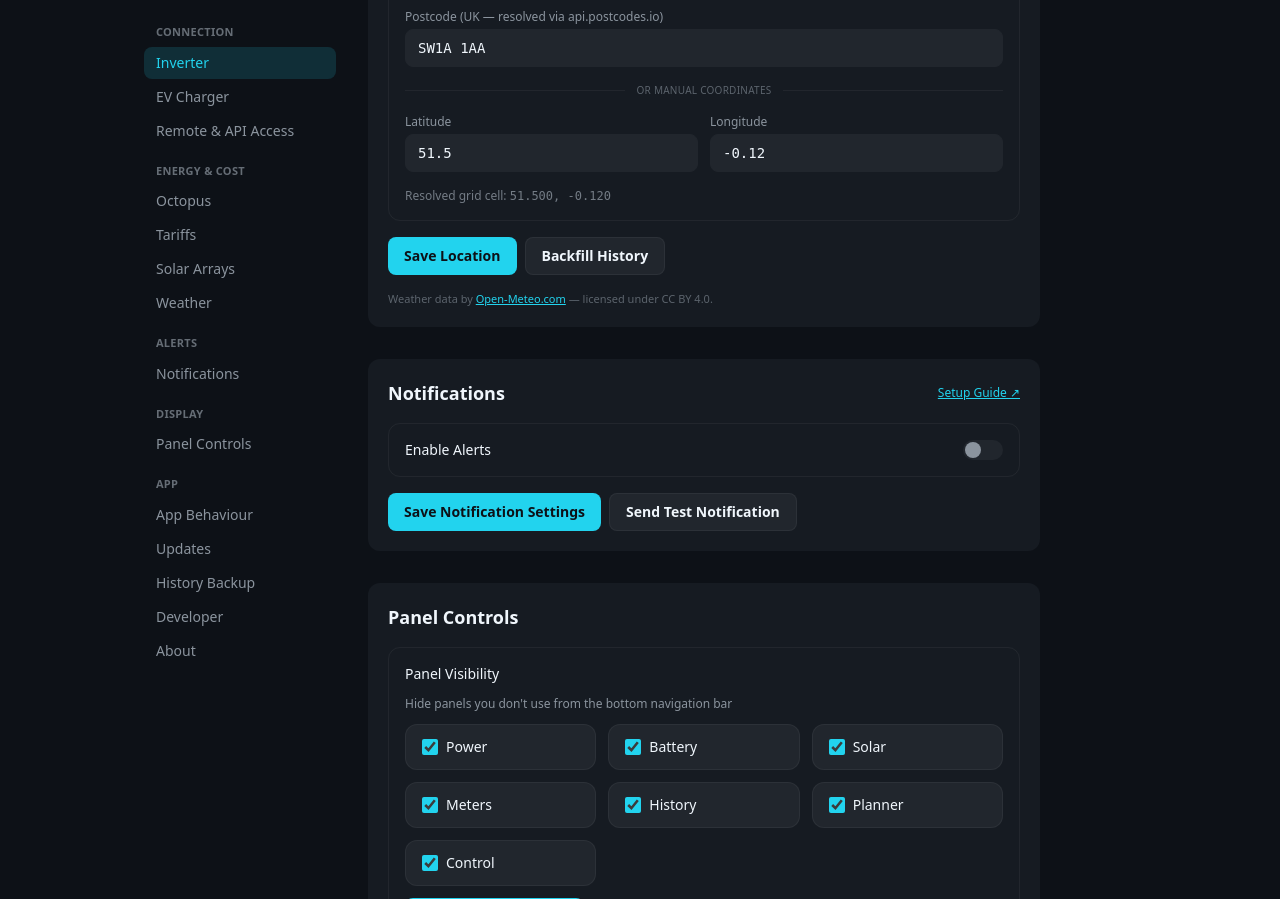
Test: <SettingsPage/> — notification form reaches the right keys › confirms switching alerts on and off
This screenshot has width=1280, height=899.
(page scrolled)
Expected: the button "Save Notification Settings" is enabled, [388, 493, 601, 531]
Click the switch named "Enable Alerts" at (983, 450), box [963, 440, 1003, 460]
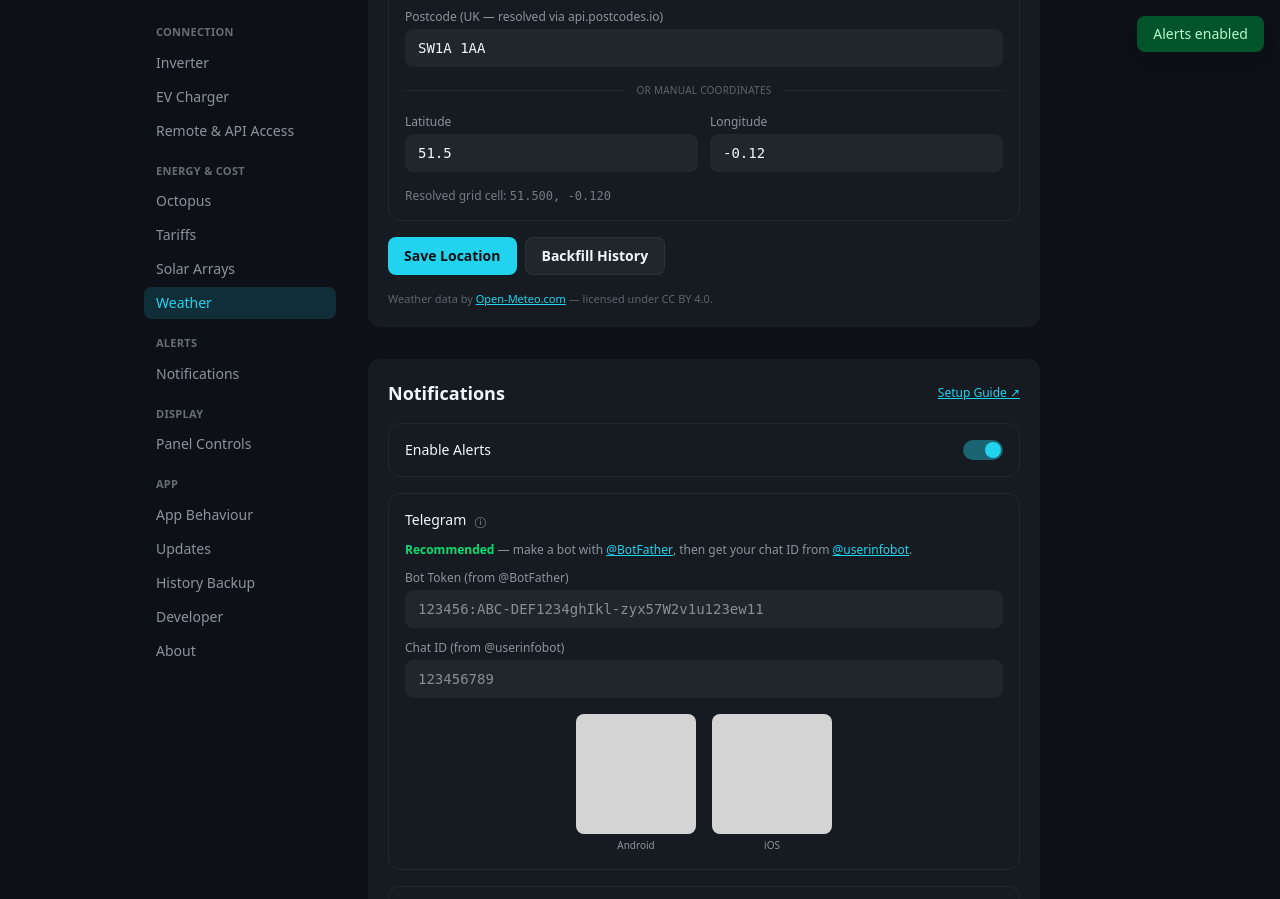
Expected: the text "Alerts enabled" is shown, [1137, 16, 1264, 52]
Click the switch named "Enable Alerts" at (983, 450), box [963, 440, 1003, 460]
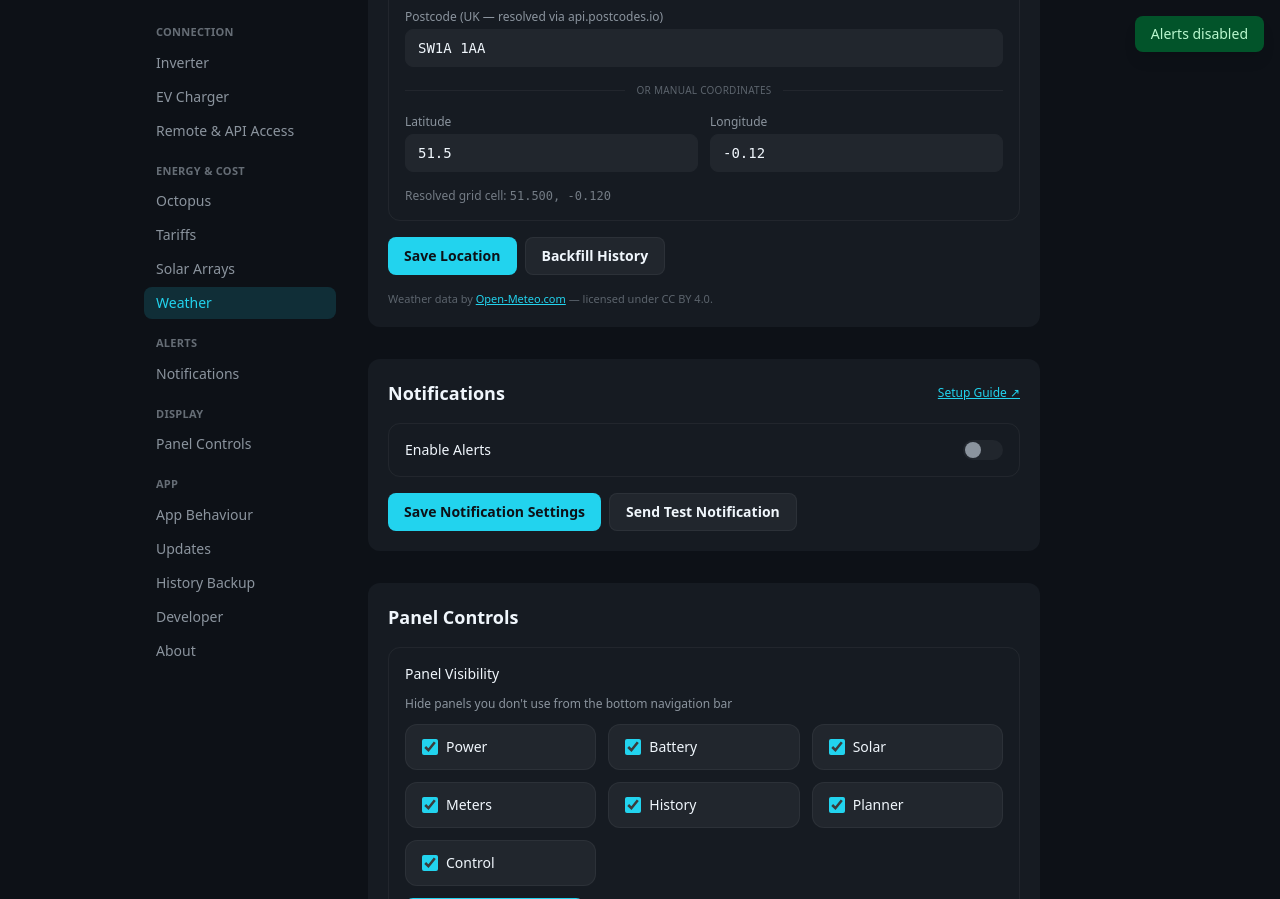
Expected: the text "Alerts disabled" is shown, [1135, 16, 1264, 52]
